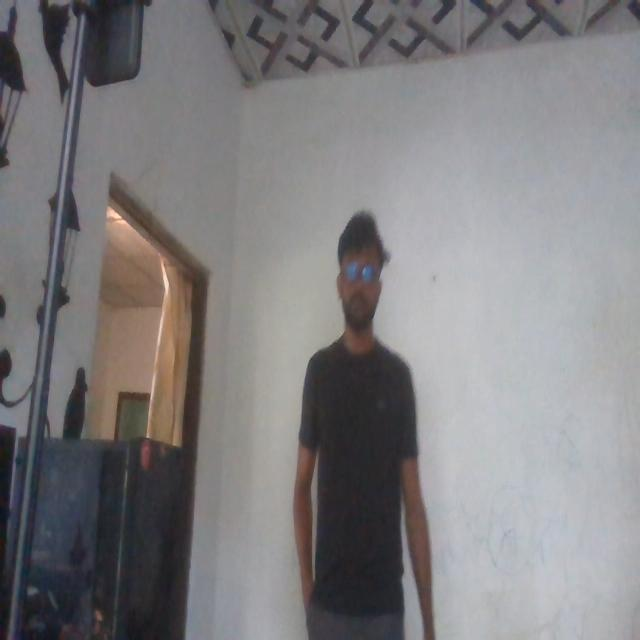Person: (295, 210, 429, 640)
